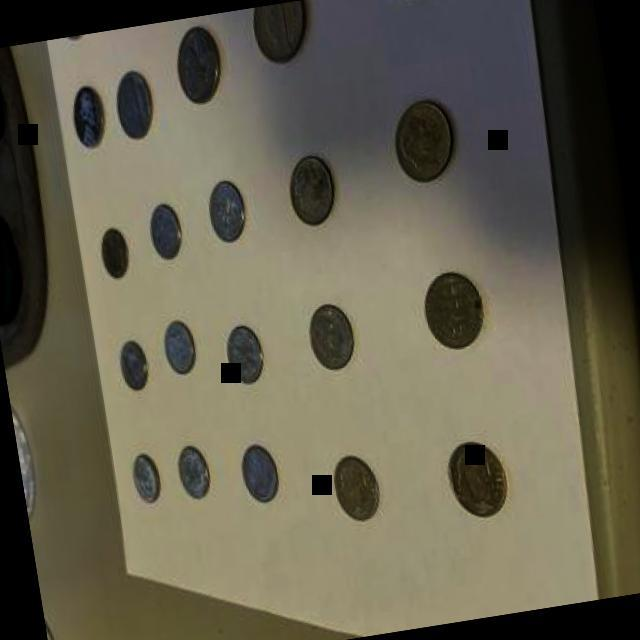Dime: (385, 94, 463, 187), (442, 436, 516, 524), (417, 266, 491, 354), (280, 150, 342, 227), (328, 446, 384, 528), (302, 298, 360, 375), (202, 175, 253, 245), (235, 437, 282, 506), (222, 321, 269, 388), (121, 447, 168, 507), (142, 198, 186, 261), (158, 316, 201, 379), (94, 221, 137, 280), (112, 334, 154, 394), (174, 439, 214, 502)
Nickel: (247, 0, 322, 69), (167, 19, 227, 104), (112, 66, 163, 146), (66, 76, 112, 152)
